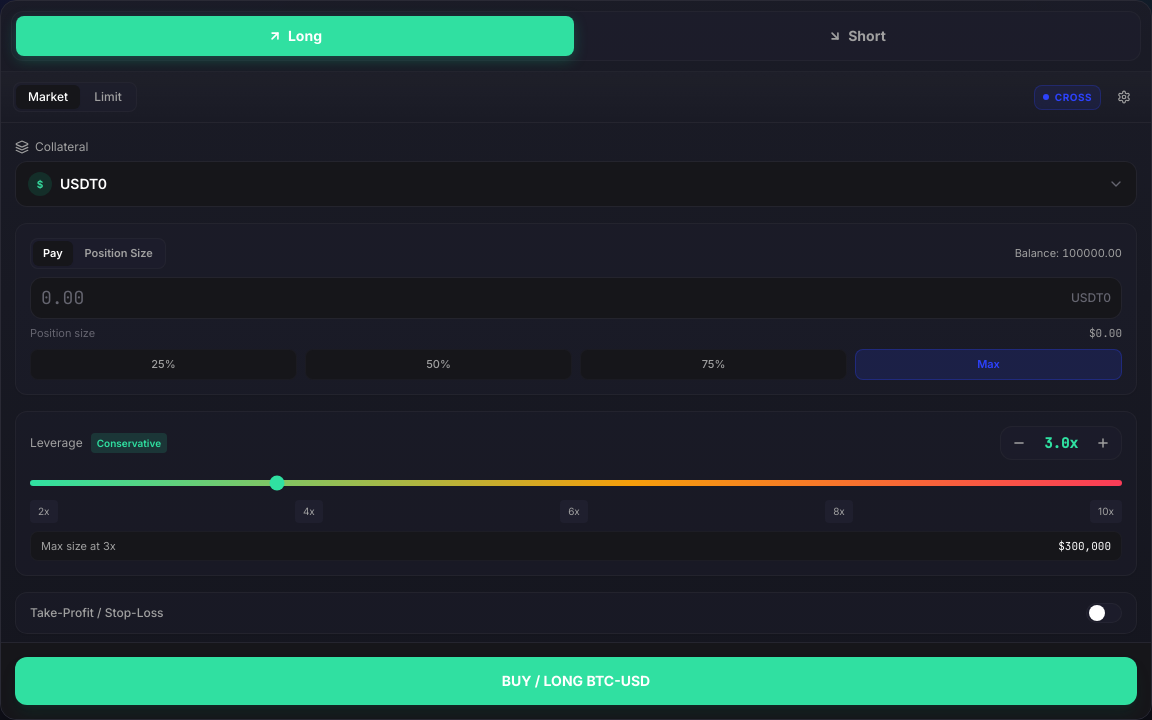
Test: TradingForm confirm modal › opens the confirm modal for a long market order
In the number field with test id "margin-input": (552, 298) [41,284,1063,312], type "500"
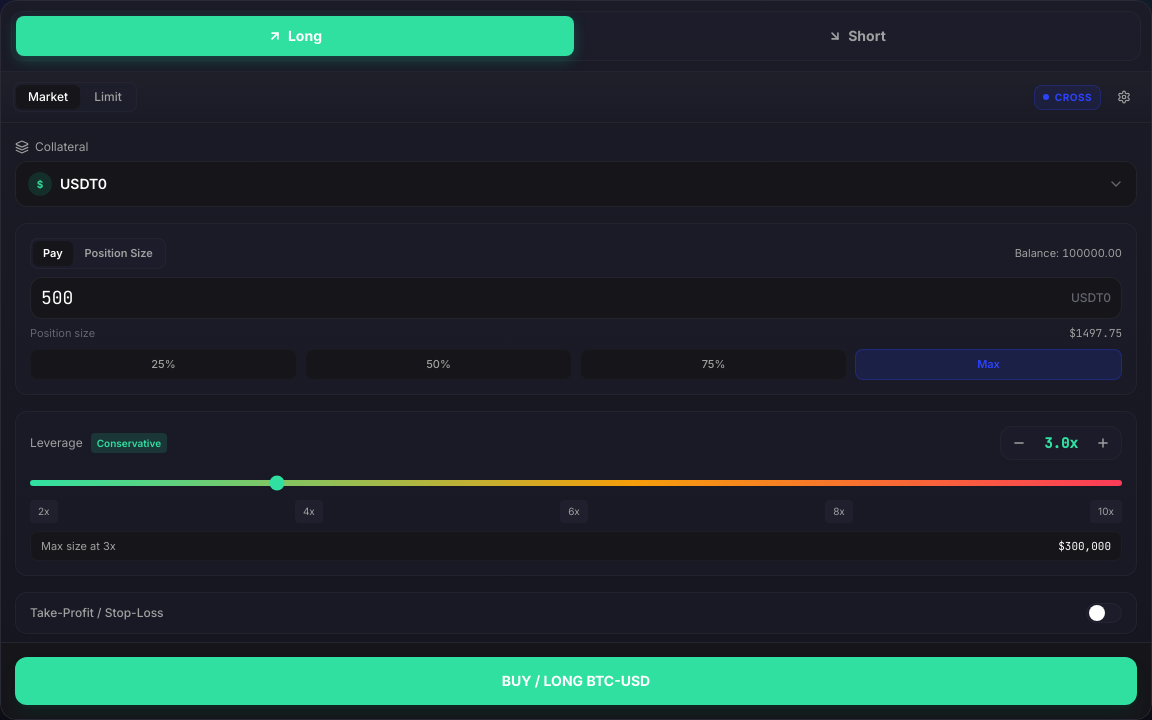
Click the button with test id "trade-button": (576, 681) [15,657,1137,705]
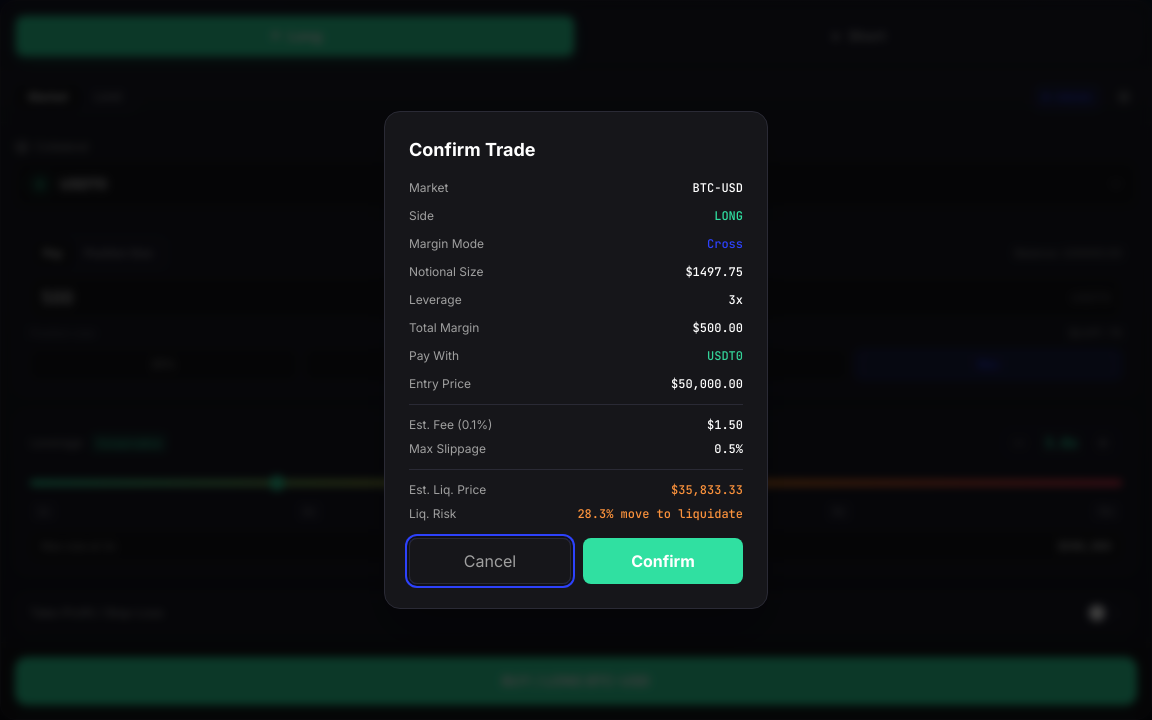
Check: the heading "Confirm Trade" is shown, box [409,139,536,160]
Check: the text "Side" is shown, box [409,208,434,224]
